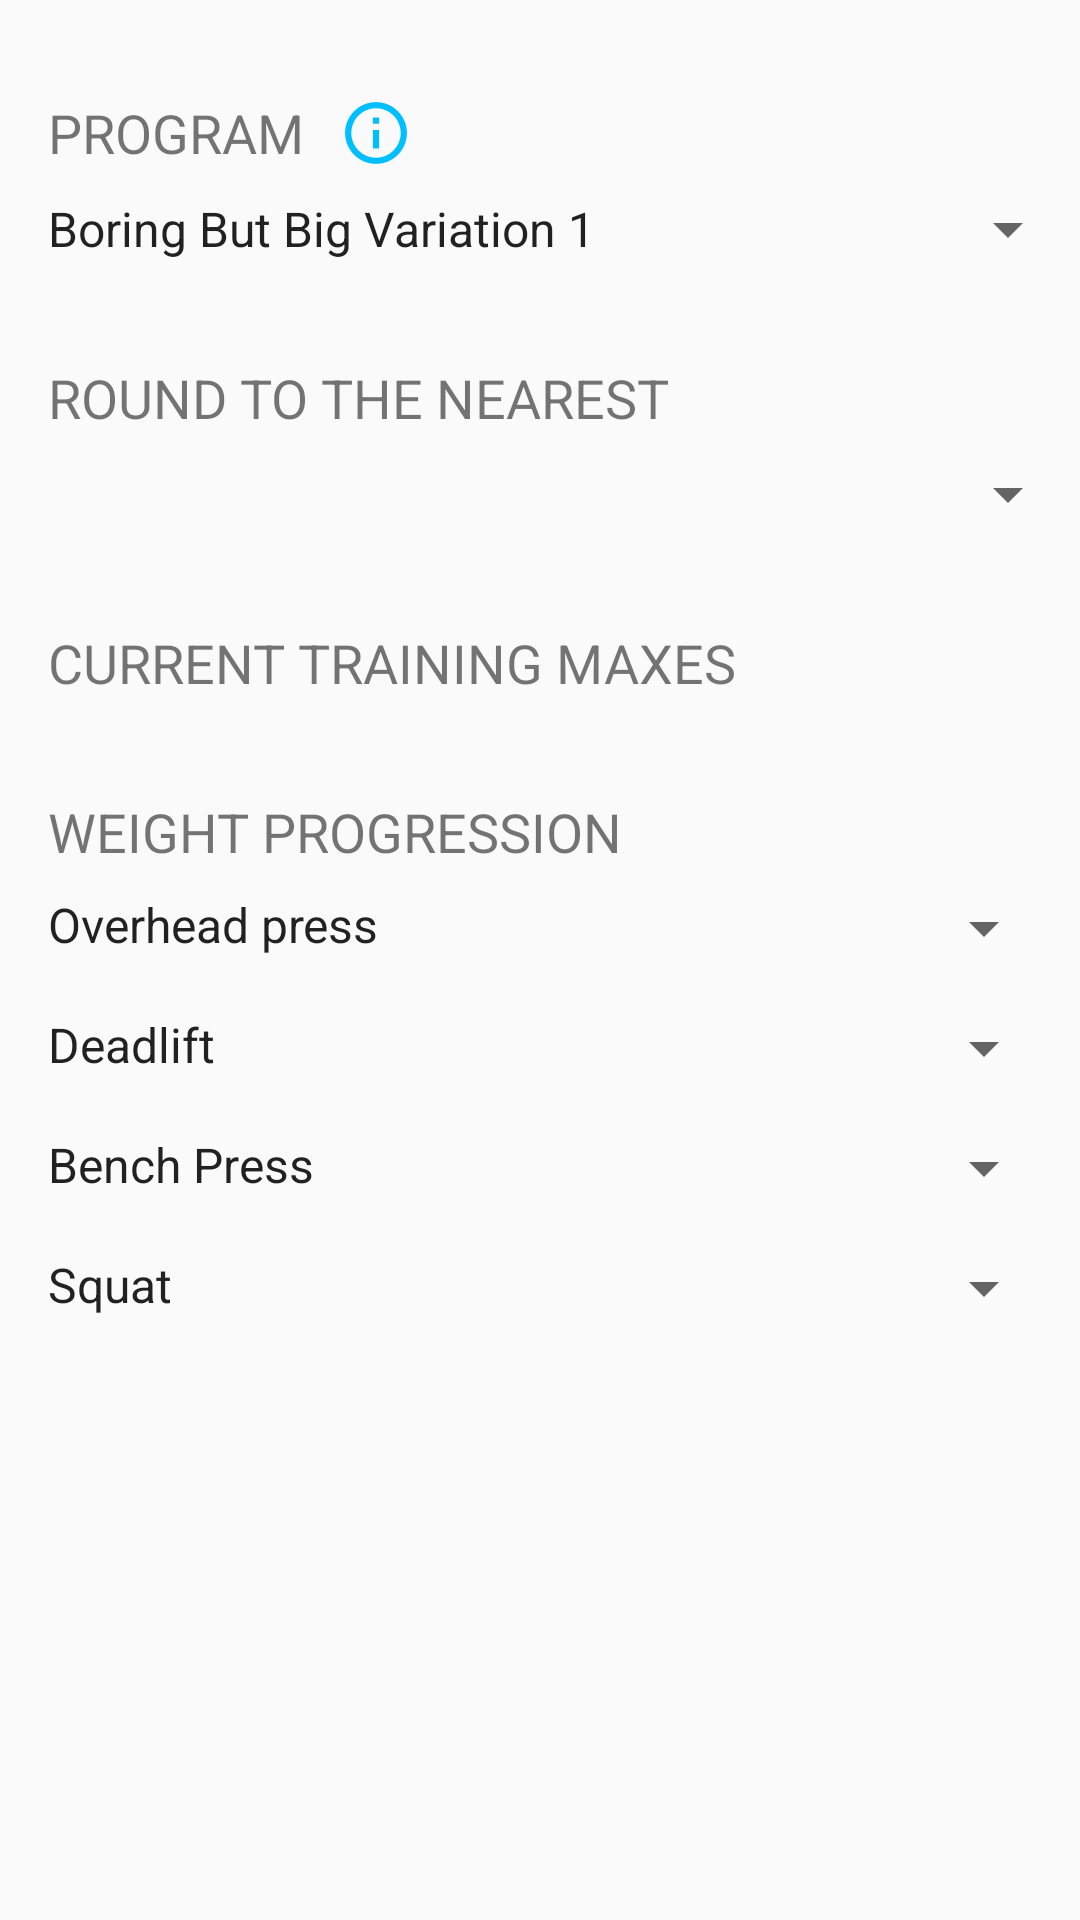

Named icons in this screenshot (1080px x 1920px) and their centers, point (x, y):
infos: point (376, 133)
